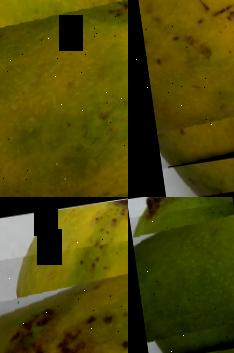PartiallyRipe: (0, 0, 128, 197), (128, 0, 234, 168), (0, 232, 128, 353)
Unripe: (128, 200, 234, 353)
